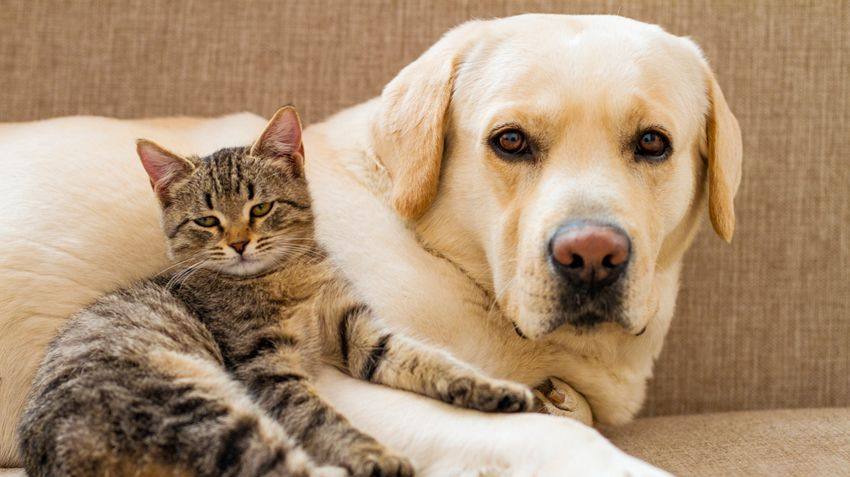cat: (134, 104, 328, 281)
